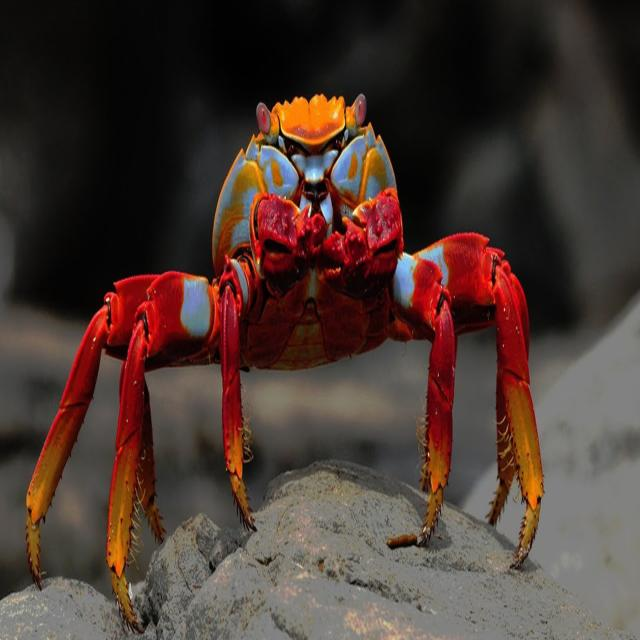crab: (201, 76, 445, 426)
